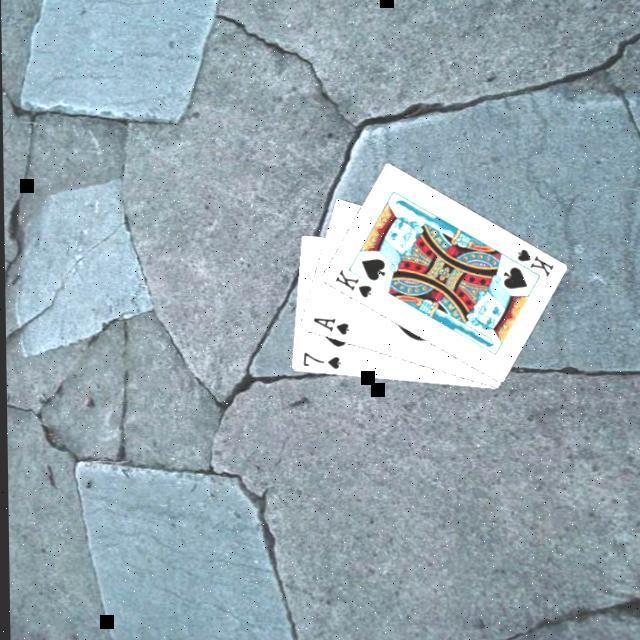7S: (296, 352, 341, 374)
AS: (306, 316, 348, 341)
KS: (503, 247, 553, 282), (329, 268, 371, 302)
